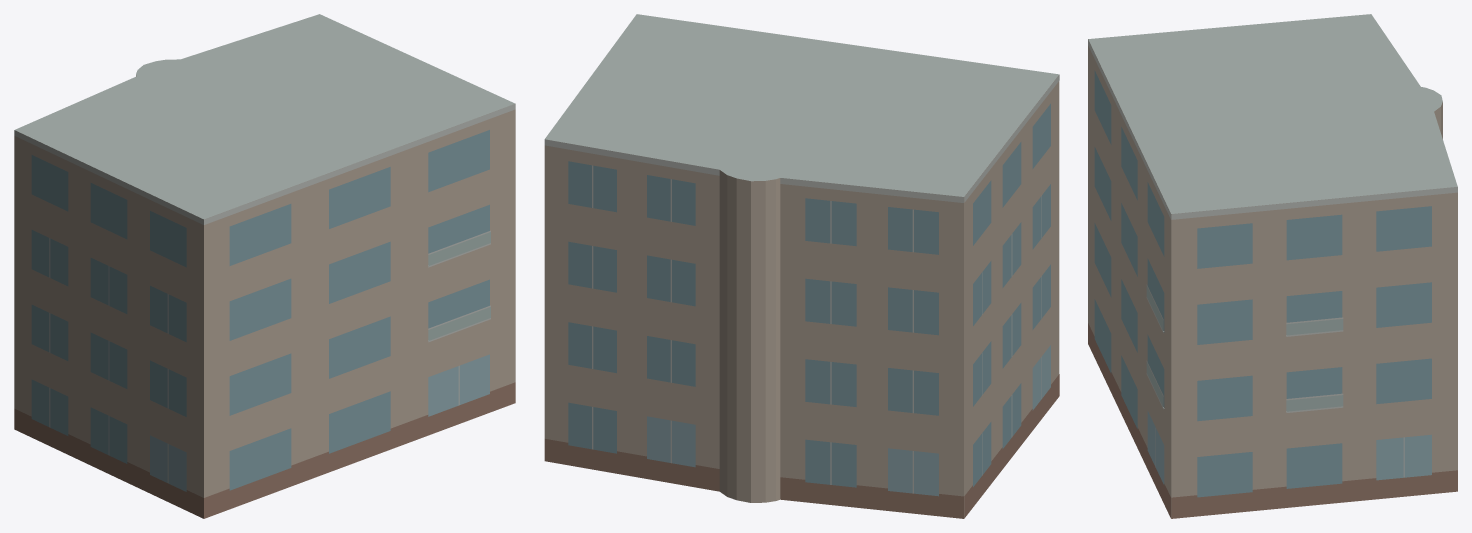
The model's file is survey-upis-32712841.glb.
3 views of the same model, side by side, from view 1: azimuth 30°, elevation 25°; view 2: azimuth 150°, elevation 25°; view 3: azimuth 270°, elevation 25° (orthographic). The views are drawn at different scales.
Visible parts, largest first — view 1: survey-upis-32712841.tmp; view 2: survey-upis-32712841.tmp; view 3: survey-upis-32712841.tmp.
Part boxes in pixels (x1,y1,x2,y2): survey-upis-32712841.tmp: (14, 14, 515, 518); survey-upis-32712841.tmp: (544, 14, 1059, 518); survey-upis-32712841.tmp: (1088, 14, 1457, 518).
Bounding box in the file's own units: 18.03 × 12.8 × 14.08.
